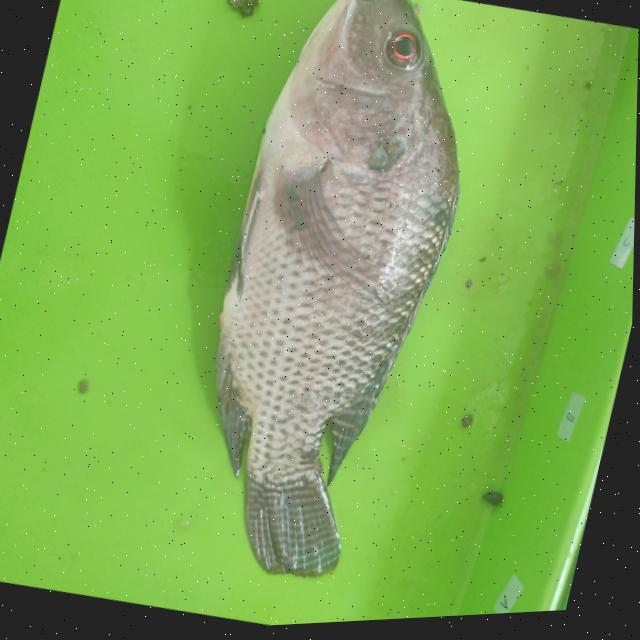Fresh: (146, 78, 466, 606), (358, 0, 437, 88)
